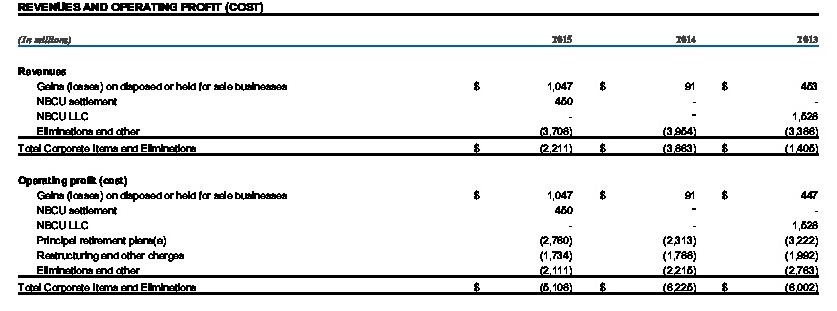table: (0, 0, 837, 311)
